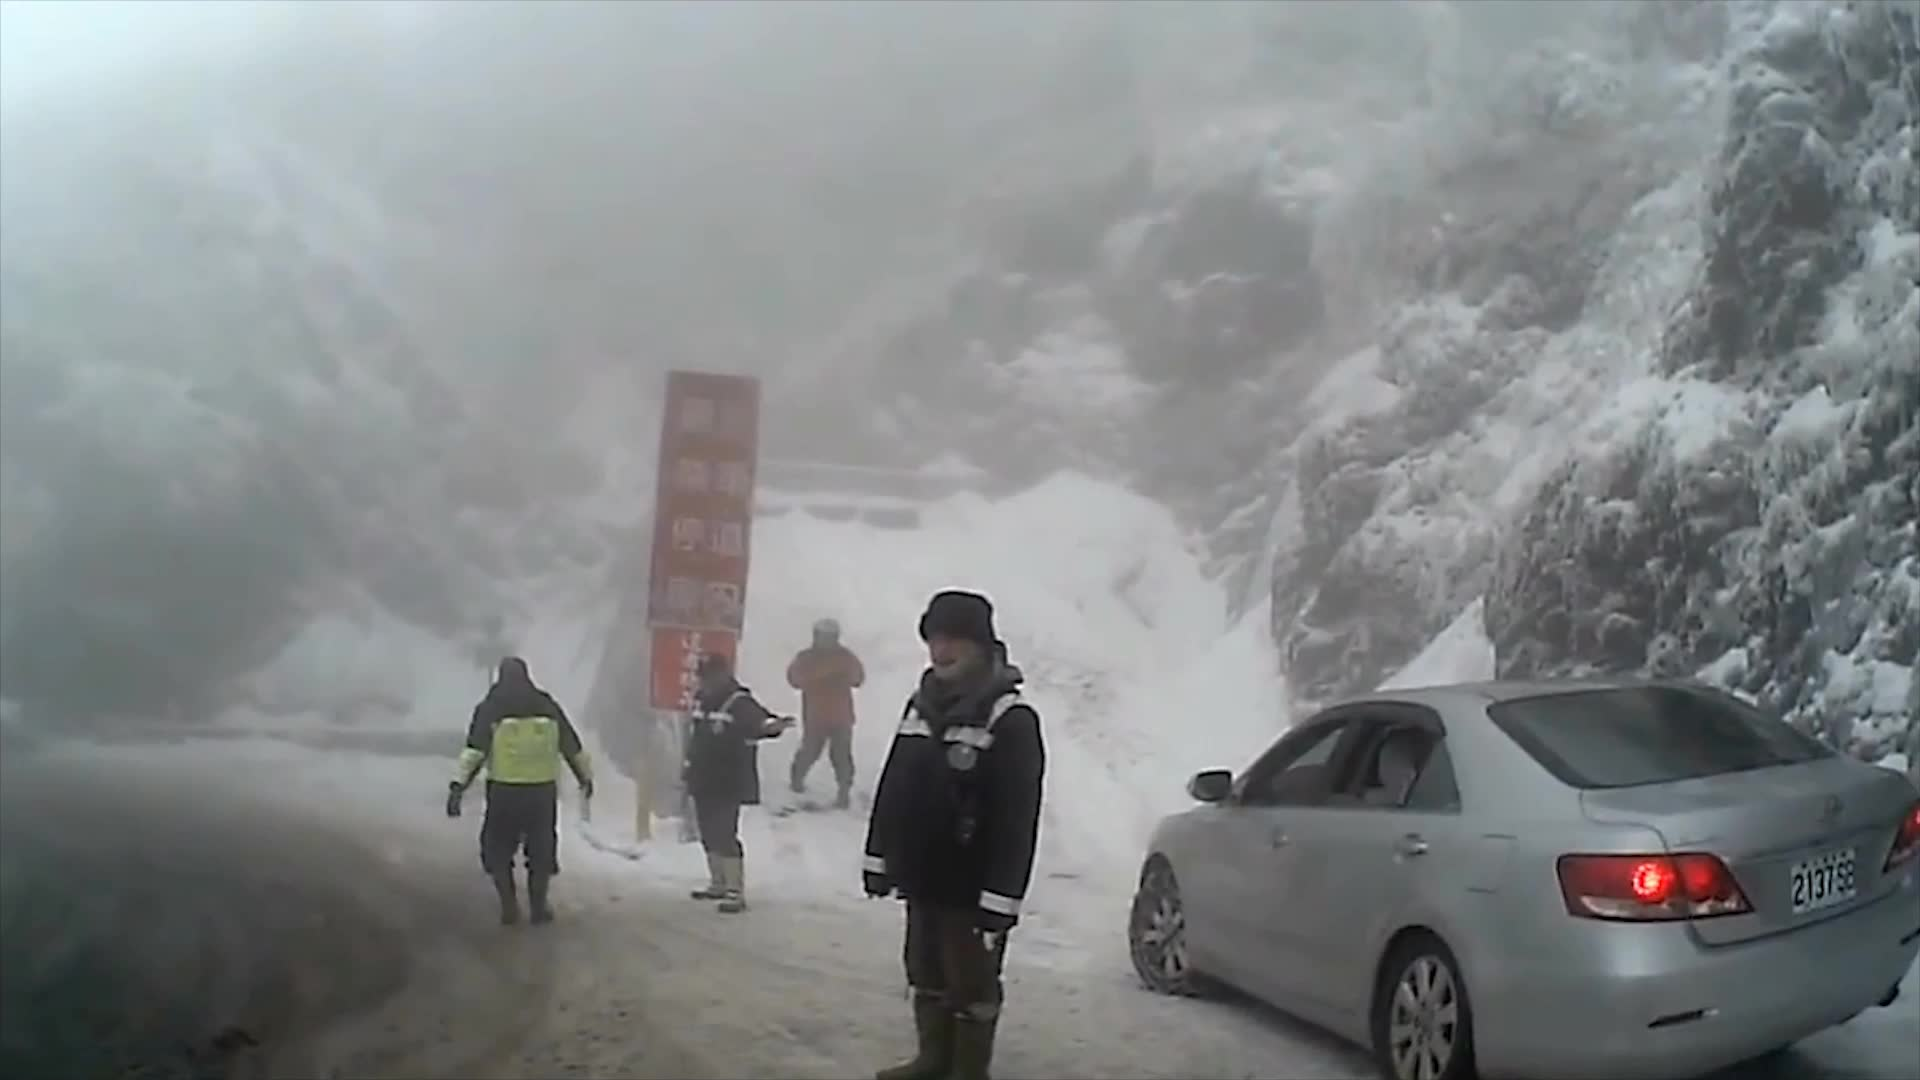pedestrian: (850, 580, 1037, 1080), (455, 664, 591, 931), (683, 650, 793, 910), (790, 616, 863, 813)
vehicle: (1121, 678, 1920, 1080)
